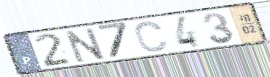2: (34, 32, 75, 69)
3: (201, 11, 237, 46)
4: (173, 15, 204, 50)
7: (95, 21, 131, 61)
C: (133, 20, 170, 53)
N: (62, 26, 108, 65)
